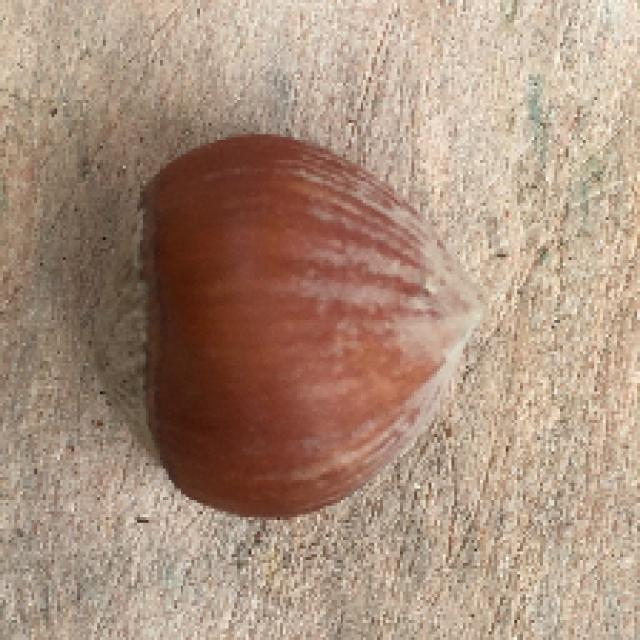qualityHazelnut: (93, 133, 493, 521)
